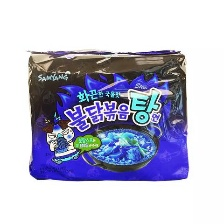snack: (15, 40, 198, 187)
